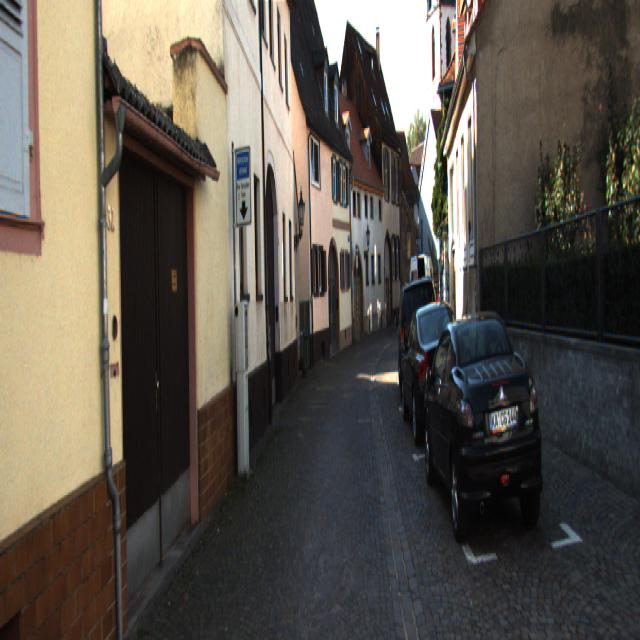Car: (418, 309, 551, 551), (398, 291, 467, 448), (395, 273, 439, 401), (409, 252, 438, 332)
